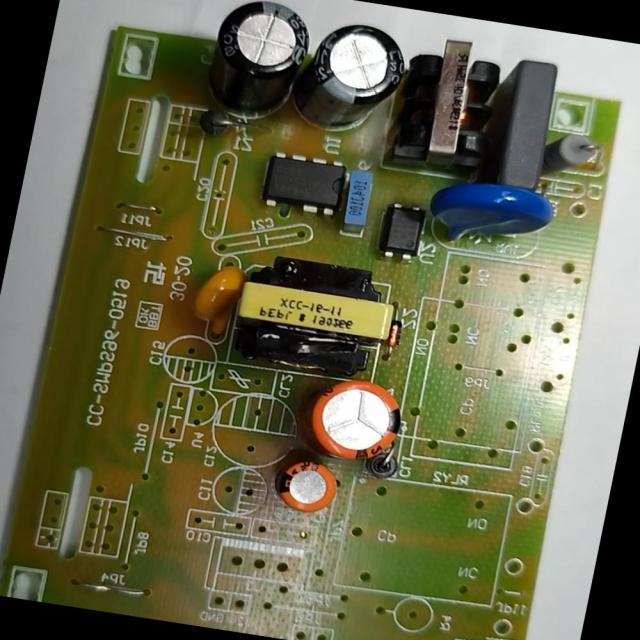Cap1: (302, 372, 409, 472)
Cap2: (274, 456, 348, 518)
Cap3: (288, 12, 414, 139)
Cap4: (200, 0, 318, 130)
MOSFET: (255, 145, 351, 222)
Mov: (421, 172, 563, 264)
Resistor: (539, 127, 601, 186)
Transformer: (225, 247, 408, 380), (392, 33, 510, 174)
